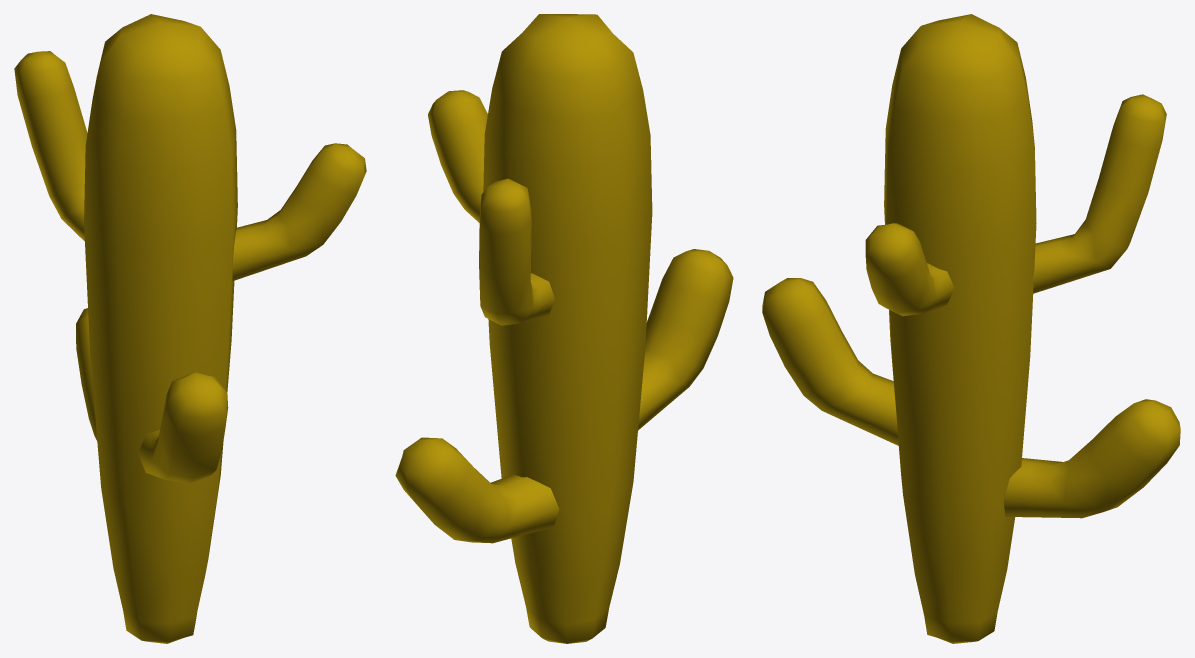
The model's file is Cactus_0.fbx.
3 renders of one model, left to right at view 1: azimuth 30°, elevation 25°; view 2: azimuth 150°, elevation 25°; view 3: azimuth 270°, elevation 25°, orthographic.
Visible parts, largest first — view 1: Cactus_2; view 2: Cactus_2; view 3: Cactus_2.
Part boxes in pixels (bbox=[...]): Cactus_2: bbox=[14, 14, 366, 643]; Cactus_2: bbox=[395, 14, 733, 643]; Cactus_2: bbox=[762, 14, 1180, 643].
Size of the model in its own units: 70.02 by 170 by 105.
